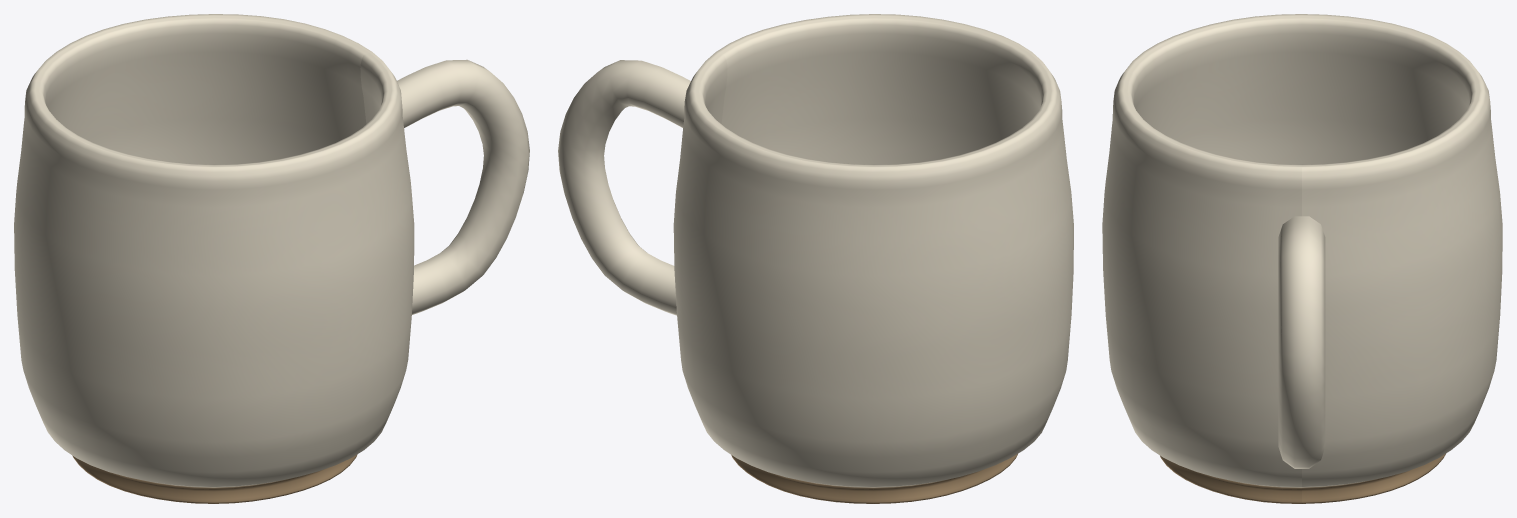
The model's file is quality-mug-v11.glb.
The picture shows the model from 3 angles, left to right: view 1: azimuth 30°, elevation 25°; view 2: azimuth 150°, elevation 25°; view 3: azimuth 270°, elevation 25°; orthographic projection.
Visible parts, largest first — view 1: quality-mug-v11; view 2: quality-mug-v11; view 3: quality-mug-v11.
Part boxes in pixels (x1,y1,x2,y2): quality-mug-v11: [14, 14, 529, 503]; quality-mug-v11: [558, 14, 1073, 503]; quality-mug-v11: [1102, 14, 1502, 503].
Size of the model in its own units: 0.3327 by 0.232 by 0.238.
1 material, 1 textured.
